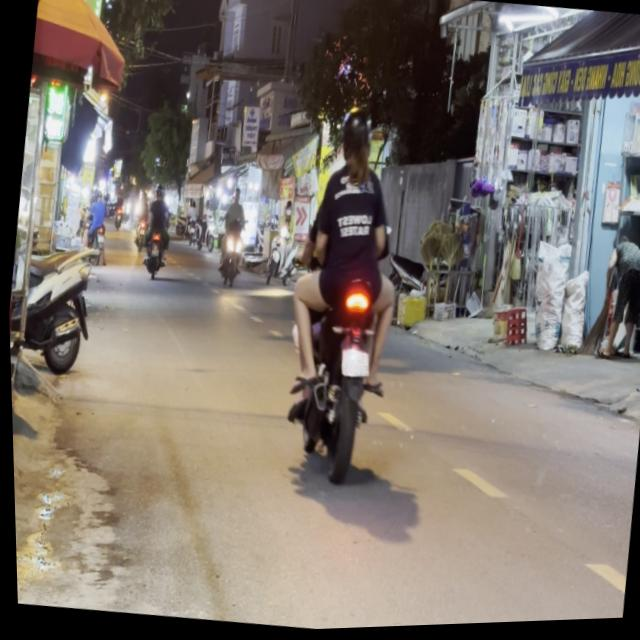helmet: (336, 105, 376, 167)
licenseplate: (264, 98, 422, 486)
nohelmet: (337, 348, 369, 377)
